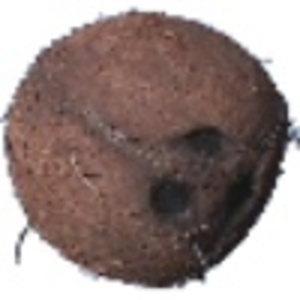coco: (1, 10, 300, 289)
